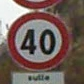limite 40: (5, 9, 70, 70)
